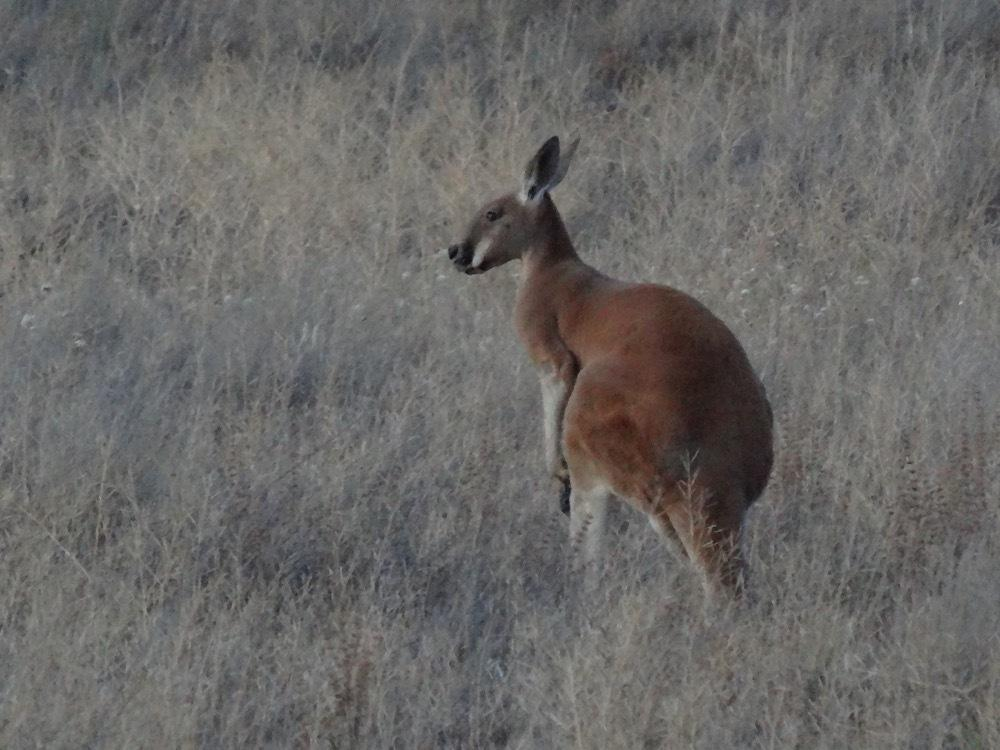Red kangaroo: (446, 133, 798, 616)
